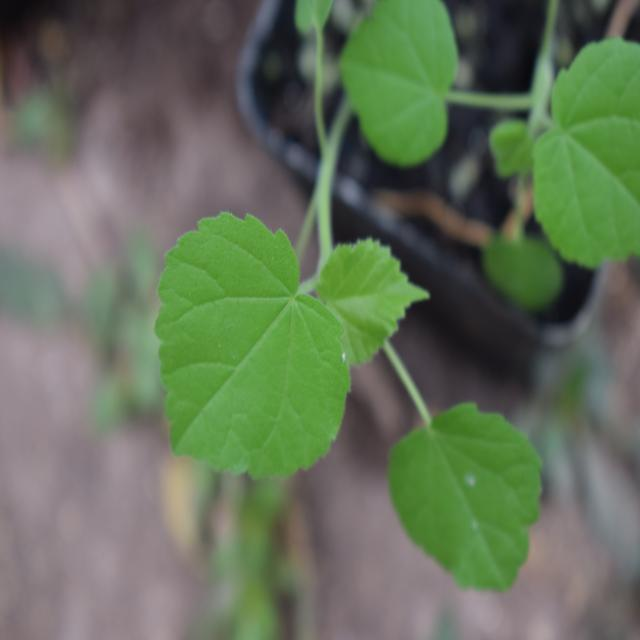abutilon theophrasti: (140, 164, 535, 566)
